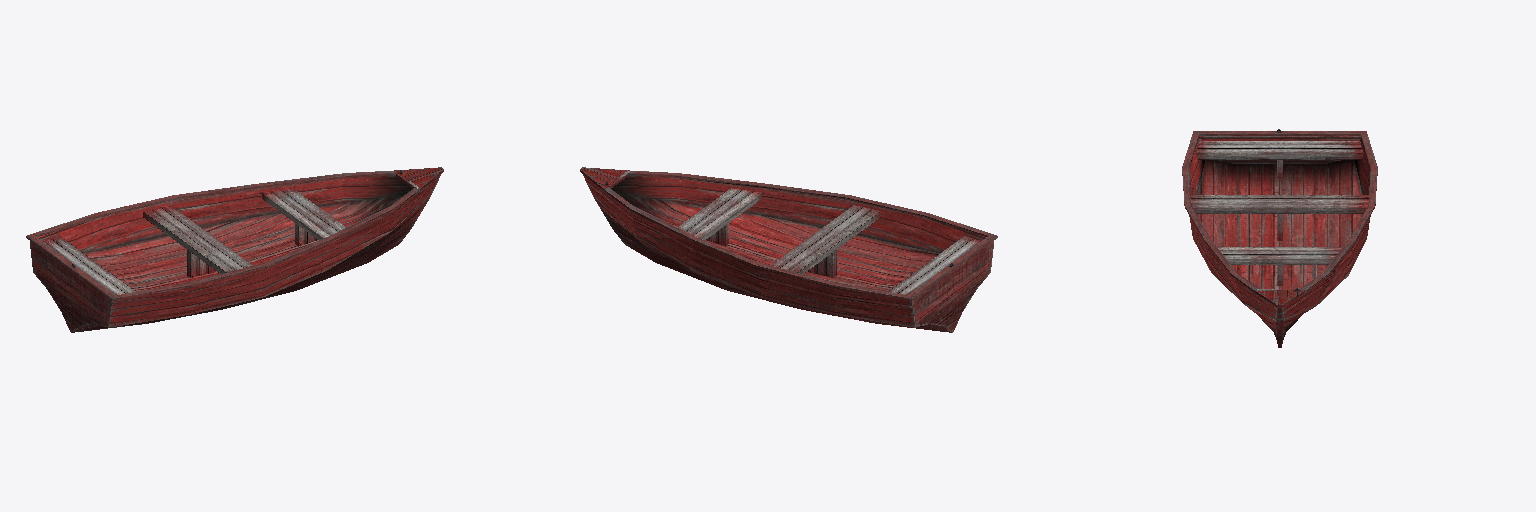
3 views of the same model, side by side, from view 1: azimuth 30°, elevation 25°; view 2: azimuth 150°, elevation 25°; view 3: azimuth 270°, elevation 25° (orthographic).
Visible parts, largest first — view 1: Object_2, Object_0, Object_1; view 2: Object_2, Object_0, Object_1; view 3: Object_2, Object_0, Object_1.
Part boxes in pixels (x1,y1,x2,y2): Object_2: (30,174,440,332); Object_0: (43,170,418,294); Object_1: (26,167,443,300); Object_2: (583,174,993,332); Object_0: (604,171,980,294); Object_1: (580,167,997,300); Object_2: (1189,136,1370,347); Object_0: (1191,129,1368,291); Object_1: (1182,131,1377,306).
Size of the model in its own units: 4.18 by 0.905 by 1.9.
Materials: 3 (3 with a texture image).